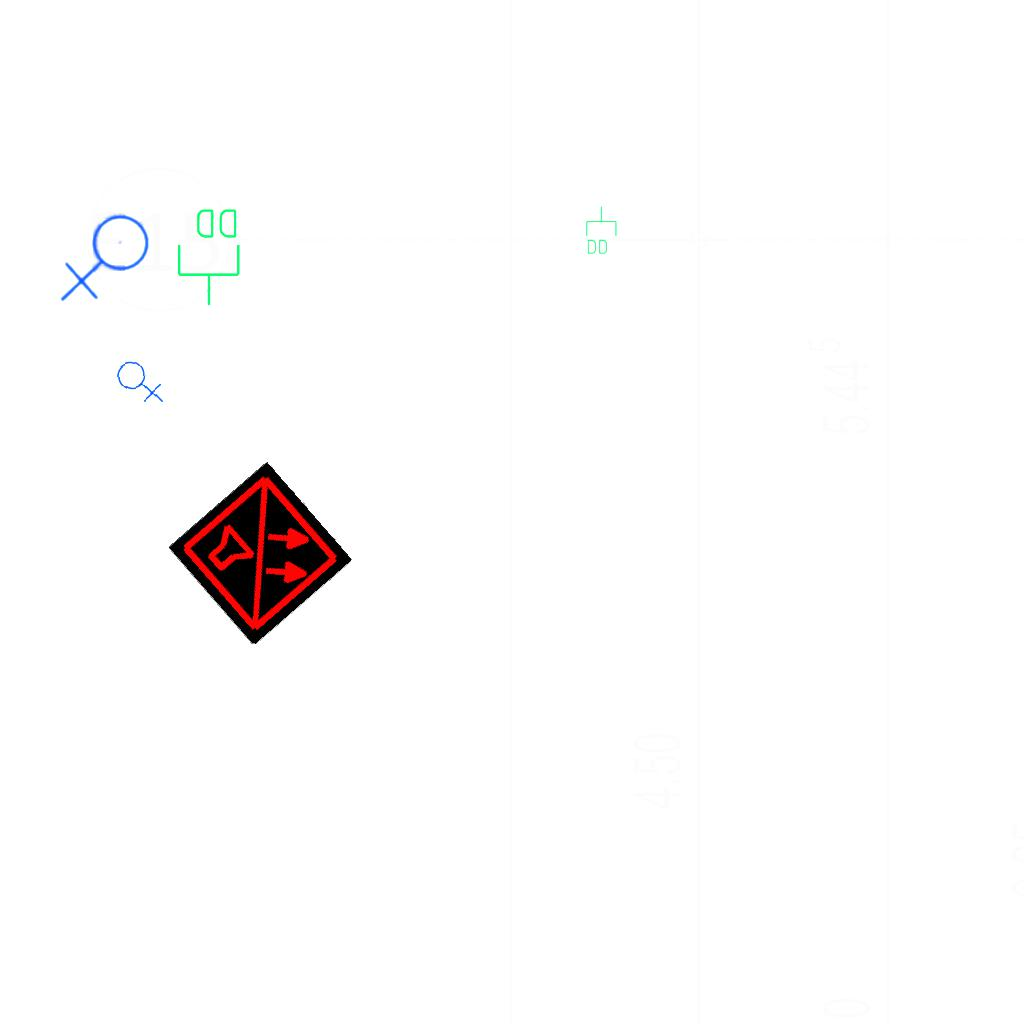Datenanschluss_zweifach: (175, 205, 244, 308), (584, 205, 618, 256)
Elektroanschluss_allgemein_230V_Geraeteanschlussdose_230V: (59, 213, 158, 307), (114, 353, 167, 408)
OKW_Multisensormelder_(Kombination_optischer_Rauch-Kahlenmonoxid_Waerme-Melder): (167, 460, 355, 648)
